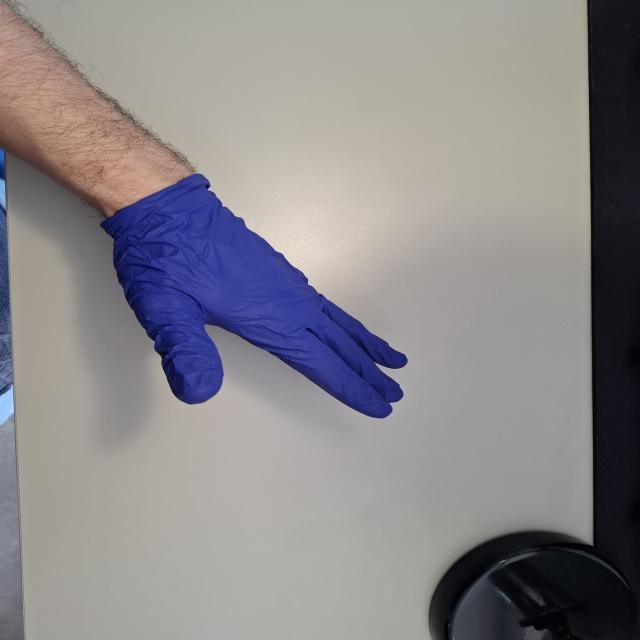glove_on: (97, 174, 415, 422)
